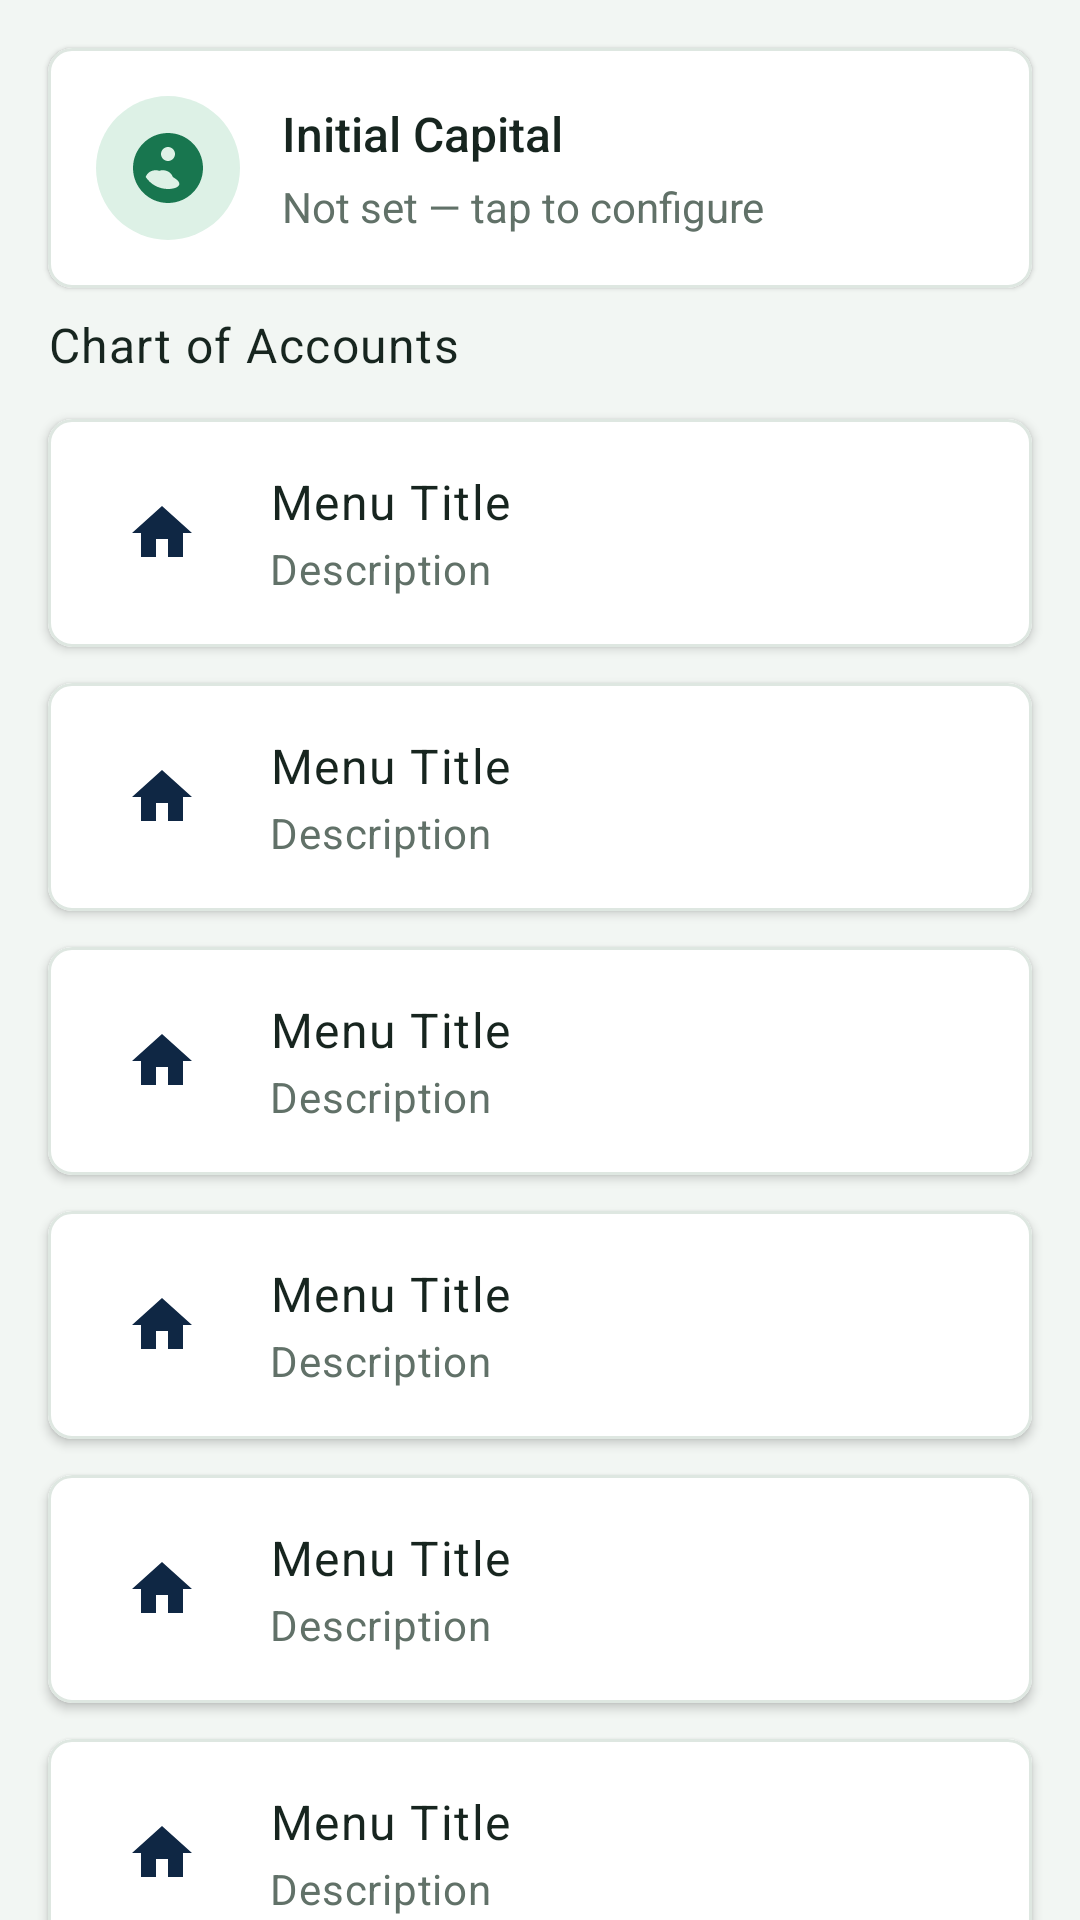

Icons on this 1080px x 1920px Android screen, each with the point to tap as point (x, y):
home: point (162, 531), point (162, 795), point (162, 1059), point (162, 1323), point (162, 1587), point (162, 1851)
